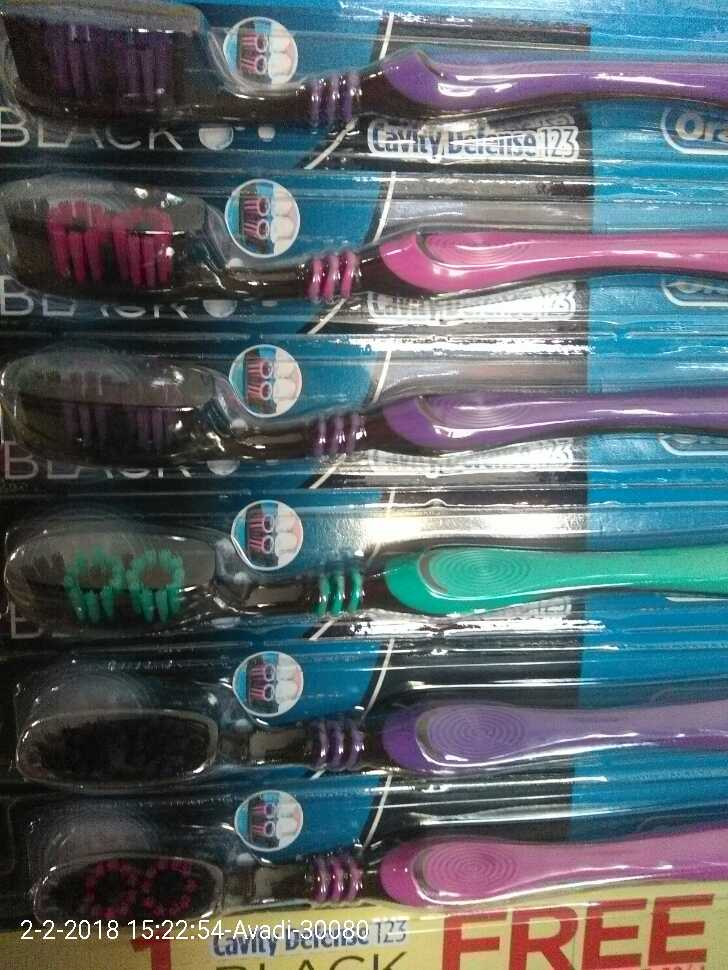oralb: (4, 16, 724, 162), (7, 189, 727, 311), (10, 346, 728, 463), (11, 673, 725, 785), (14, 522, 728, 619), (20, 815, 728, 905)
